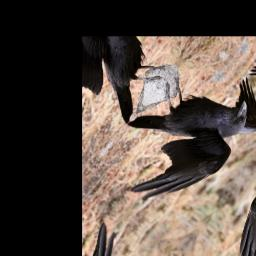Crow: (96, 38, 256, 233)
